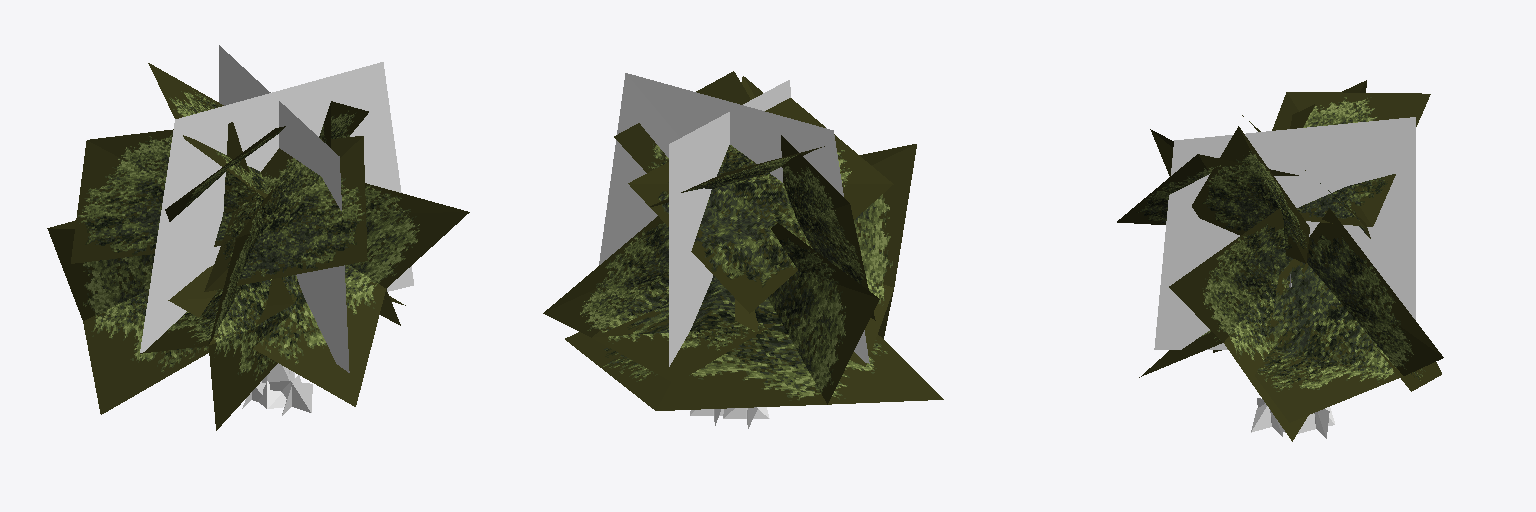
The picture shows the model from 3 angles: view 1: azimuth 30°, elevation 25°; view 2: azimuth 150°, elevation 25°; view 3: azimuth 270°, elevation 25°; orthographic projection.
Bounding box in the file's own units: 41.5 × 37.46 × 35.55.
Materials: 4 (1 with a texture image).